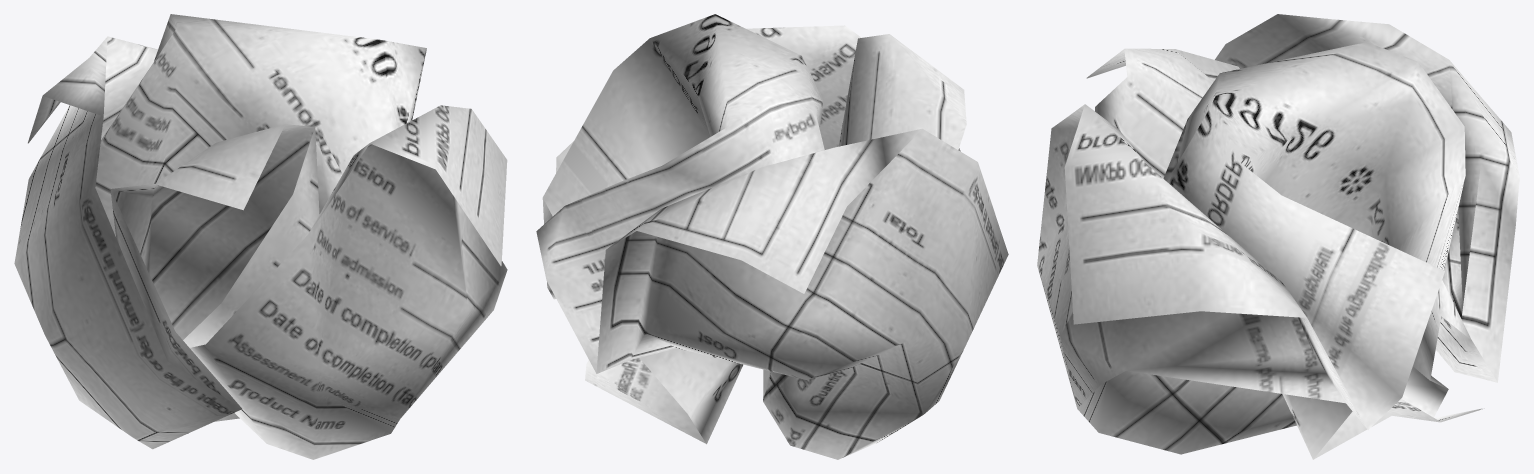
File: PaperCrumpled.gltf
3 renders of one model, left to right at view 1: azimuth 30°, elevation 25°; view 2: azimuth 150°, elevation 25°; view 3: azimuth 270°, elevation 25°, orthographic. The views are drawn at different scales.
Parts seen in each view (by area): view 1: PaperCrumpled; view 2: PaperCrumpled; view 3: PaperCrumpled.
Part boxes in pixels (x1,y1,x2,y2): PaperCrumpled: (14, 14, 507, 459); PaperCrumpled: (536, 14, 1008, 459); PaperCrumpled: (1037, 14, 1519, 459).
Size of the model in its own units: 0.9501 by 0.8272 by 0.9017.
Materials: 1 (1 with a texture image).
